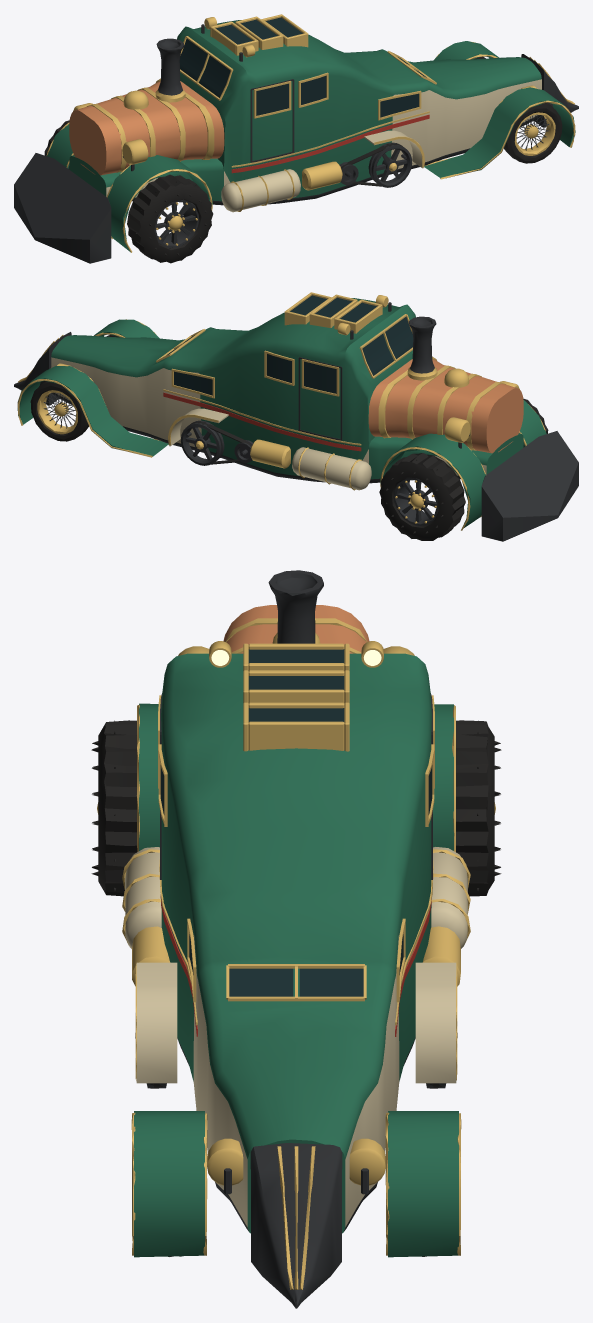
File: boilerfang_blueprint_LOD2.glb
The picture shows the model from 3 angles, top to bottom: view 1: azimuth 30°, elevation 25°; view 2: azimuth 150°, elevation 25°; view 3: azimuth 270°, elevation 25°; orthographic projection. The views are drawn at different scales.
Visible parts, largest first — view 1: Body_Hull.001, Detail_Brass, Body_BoilerBarrel.001, Body_PlowTruck.001, Wheel_Truck_Tire_-1.001, Body_FenderSpeedster_-.001, Body_FenderTruck_-.001, Body_SideTank_-1.001, Body_Smokestack.001, Prop_MidDrive_Flywheel_-1.001, Wheel_Coupe_Tire_-1.001, Detail_Stripe (+20 smaller); view 2: Body_Hull.001, Detail_Brass, Body_BoilerBarrel.001, Body_PlowTruck.001, Wheel_Truck_Tire_+1.001, Body_FenderSpeedster_+.001, Body_FenderTruck_+.001, Body_SideTank_+1.001, Body_Smokestack.001, Prop_MidDrive_Flywheel_+1.001, Wheel_Coupe_Tire_+1.001, Detail_Stripe (+20 smaller); view 3: Body_Hull.001, Detail_Brass, Body_ProwSpeedster.001, Body_FenderSpeedster_+.001, Body_FenderSpeedster_-.001, Wheel_Truck_Tire_-1.001, Wheel_Truck_Tire_+1.001, Prop_MidDrive_Guard_-1.001, Prop_MidDrive_Guard_+1.001, Body_Smokestack.001, Body_BoilerBarrel.001, Body_FenderTruck_-.001 (+10 smaller).
Part boxes in pixels (box(x1,y1,x2,y2)): Body_Hull.001: box(69, 20, 541, 205); Detail_Brass: box(46, 14, 575, 252); Body_BoilerBarrel.001: box(69, 81, 224, 175); Body_PlowTruck.001: box(14, 153, 111, 263); Wheel_Truck_Tire_-1.001: box(127, 174, 213, 263); Body_FenderSpeedster_-.001: box(424, 87, 575, 177); Body_FenderTruck_-.001: box(107, 155, 212, 252); Body_SideTank_-1.001: box(221, 169, 300, 212); Body_Smokestack.001: box(155, 38, 185, 102); Prop_MidDrive_Flywheel_-1.001: box(368, 142, 412, 187); Wheel_Coupe_Tire_-1.001: box(504, 103, 562, 163); Detail_Stripe: box(231, 114, 429, 173); Body_Hull.001: box(51, 298, 523, 483); Detail_Brass: box(17, 292, 545, 530); Body_BoilerBarrel.001: box(368, 359, 523, 453); Body_PlowTruck.001: box(481, 431, 578, 541); Wheel_Truck_Tire_+1.001: box(379, 453, 465, 540); Body_FenderSpeedster_+.001: box(17, 366, 168, 456); Body_FenderTruck_+.001: box(380, 433, 485, 527); Body_SideTank_+1.001: box(292, 447, 371, 490); Body_Smokestack.001: box(407, 316, 437, 380); Prop_MidDrive_Flywheel_+1.001: box(180, 420, 224, 465); Wheel_Coupe_Tire_+1.001: box(30, 381, 88, 441); Detail_Stripe: box(163, 392, 361, 451); Body_Hull.001: box(161, 653, 431, 1233); Detail_Brass: box(122, 618, 470, 1289); Body_ProwSpeedster.001: box(250, 1143, 342, 1308); Body_FenderSpeedster_+.001: box(388, 1111, 458, 1257); Body_FenderSpeedster_-.001: box(134, 1111, 204, 1257); Wheel_Truck_Tire_-1.001: box(91, 720, 137, 896); Wheel_Truck_Tire_+1.001: box(456, 720, 501, 896); Prop_MidDrive_Guard_-1.001: box(136, 962, 177, 1083); Prop_MidDrive_Guard_+1.001: box(415, 962, 456, 1083); Body_Smokestack.001: box(268, 570, 323, 643); Body_BoilerBarrel.001: box(223, 605, 369, 653); Body_FenderTruck_-.001: box(139, 703, 159, 850).
Size of the model in its own units: 4.95 by 1.51 by 1.62.
